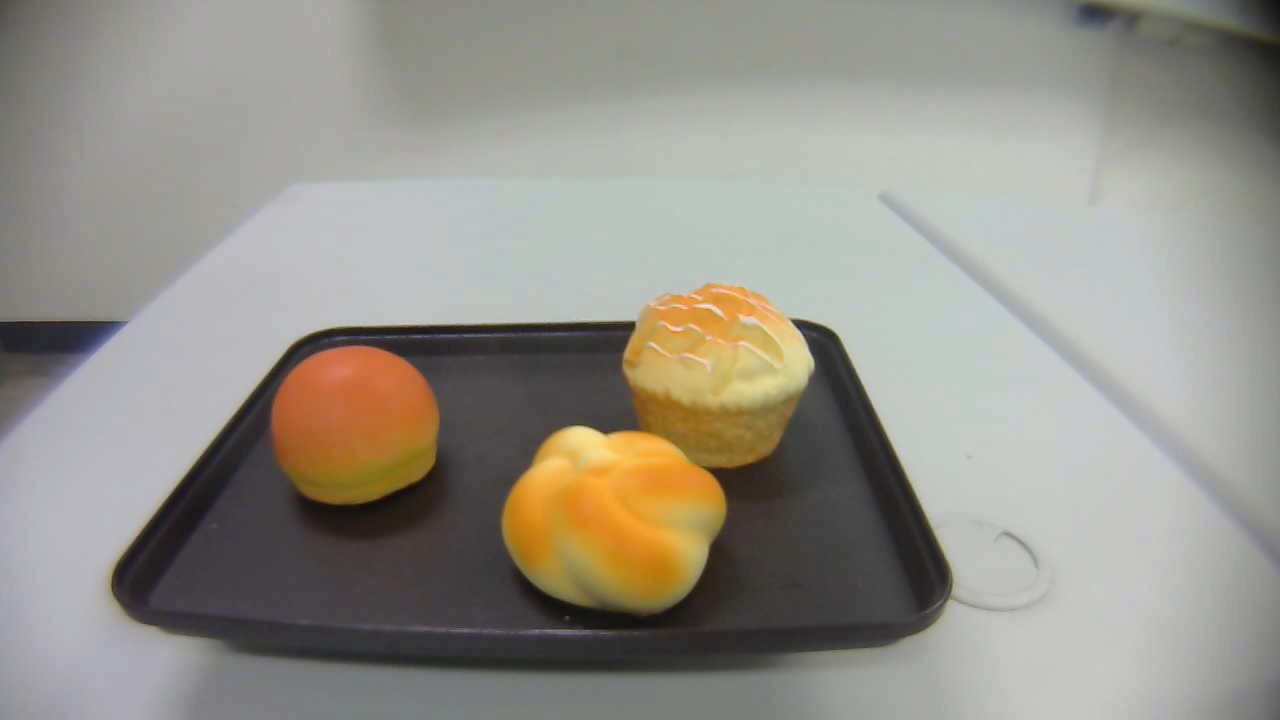bun: (270, 345, 442, 505)
cupcake: (623, 281, 814, 469)
twist bread: (501, 424, 729, 618)
